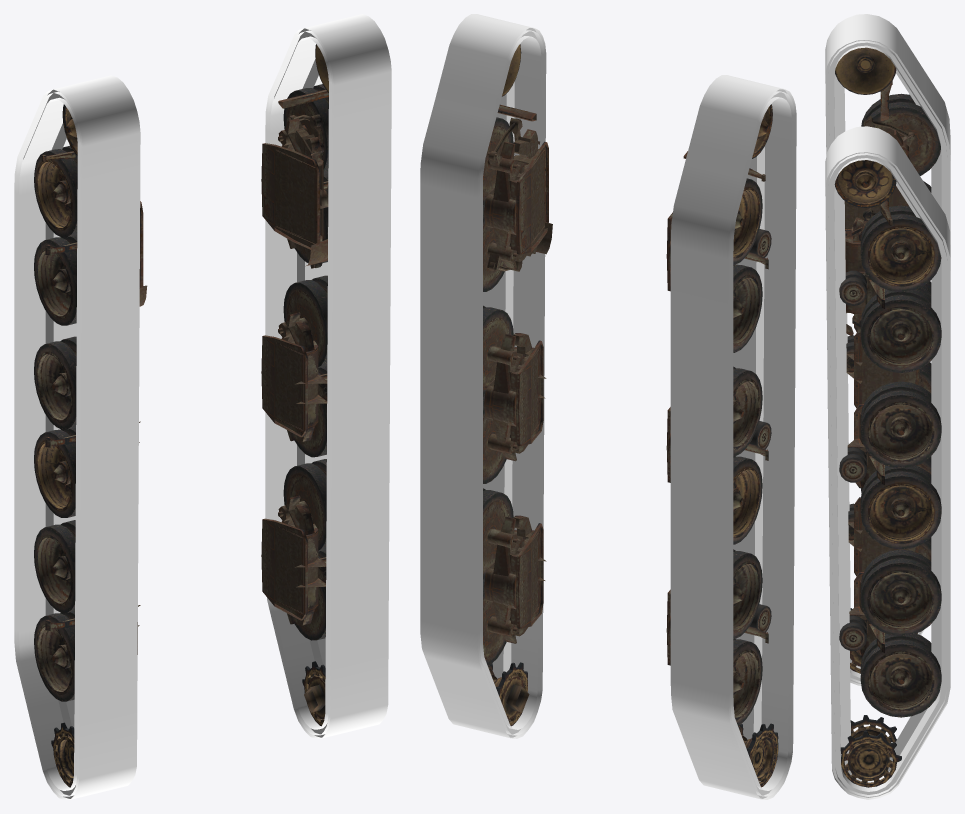
File: Chassis_03.glb
3 views of the same model, side by side, from view 1: azimuth 30°, elevation 25°; view 2: azimuth 150°, elevation 25°; view 3: azimuth 270°, elevation 25° (orthographic). The views are drawn at different scales.
Parts seen in each view (by area): view 1: set_0_group_0, set_1_group_0, set_3_group_0, set_2_group_0; view 2: set_0_group_0, set_1_group_0, set_3_group_0, set_2_group_0; view 3: set_3_group_0, set_1_group_0, set_2_group_0, set_0_group_0.
Boxes of the visible parts, bbox=[...] form: set_0_group_0: bbox=[14, 75, 140, 799]; set_1_group_0: bbox=[265, 14, 391, 738]; set_3_group_0: bbox=[261, 44, 328, 726]; set_2_group_0: bbox=[34, 104, 147, 787]; set_0_group_0: bbox=[670, 75, 796, 799]; set_1_group_0: bbox=[420, 14, 546, 738]; set_3_group_0: bbox=[483, 44, 552, 726]; set_2_group_0: bbox=[666, 104, 778, 787]; set_3_group_0: bbox=[834, 160, 941, 787]; set_1_group_0: bbox=[825, 126, 950, 799]; set_2_group_0: bbox=[835, 47, 940, 673]; set_0_group_0: bbox=[825, 14, 950, 685].
Size of the model in its own units: 3.41 by 7.23 by 1.27.
Materials: 4 (2 with a texture image).
